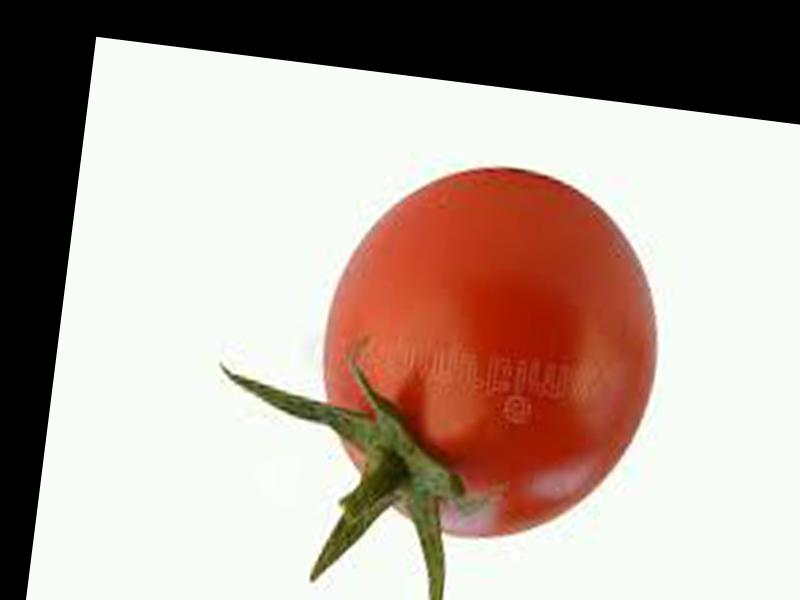Tomato: (306, 147, 678, 555)
